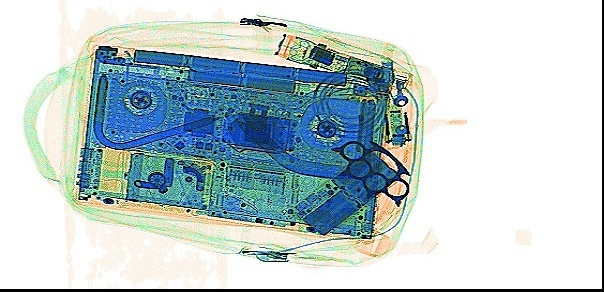powerbank: (289, 144, 400, 236)
